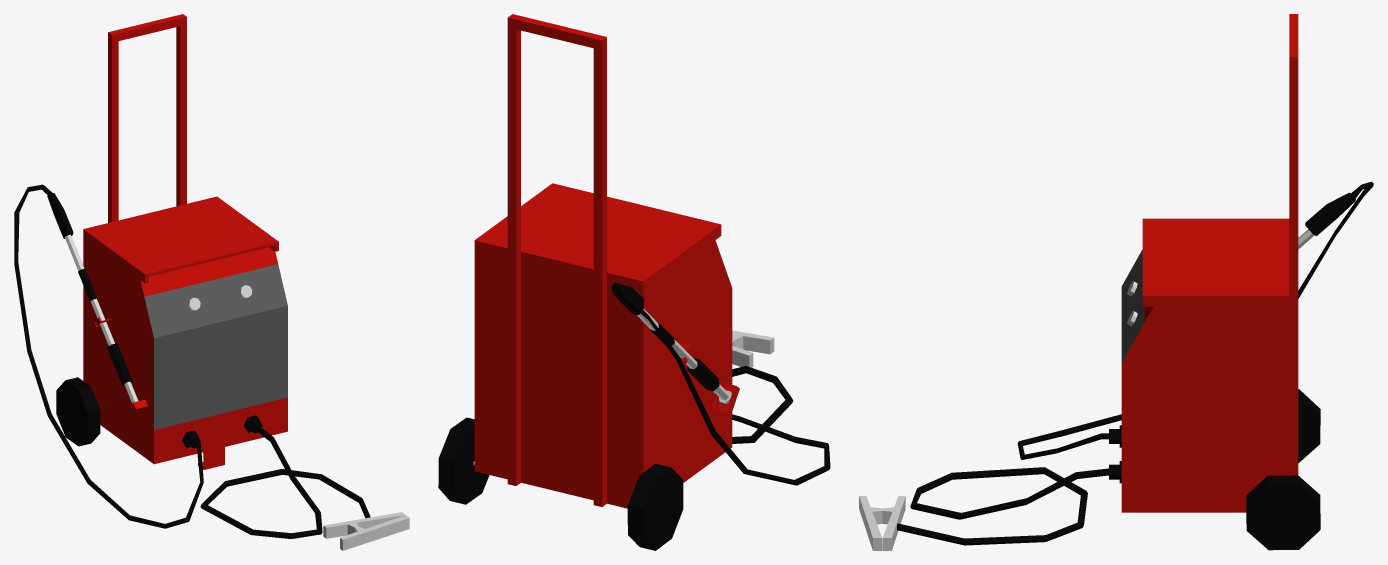
Rendered from Me_Machine.fbx.
The picture shows the model from 3 angles, left to right: view 1: azimuth 30°, elevation 25°; view 2: azimuth 150°, elevation 25°; view 3: azimuth 270°, elevation 25°; orthographic projection. The views are drawn at different scales.
Visible parts, largest first — view 1: Me_Machine; view 2: Me_Machine; view 3: Me_Machine.
Boxes of the visible parts, x1=… form: Me_Machine: x1=14, y1=14, x2=409, y2=550; Me_Machine: x1=438, y1=14, x2=830, y2=550; Me_Machine: x1=859, y1=14, x2=1373, y2=550.
Size of the model in its own units: 643 by 1153 by 1154.
